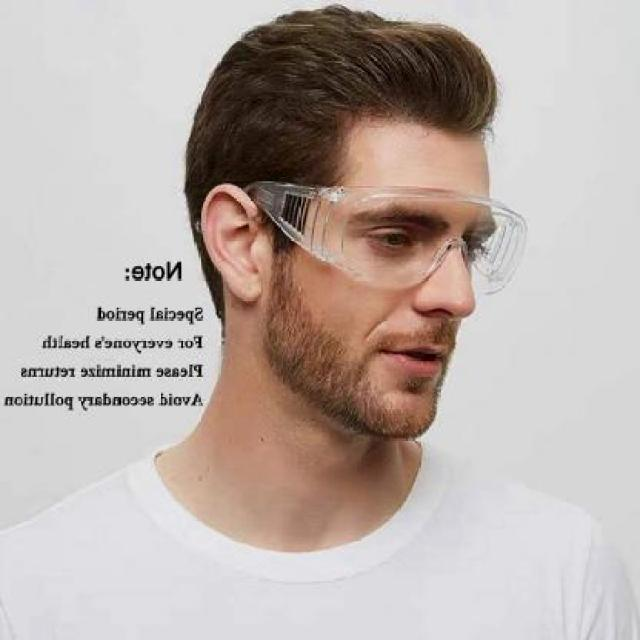face_nomask: (350, 210, 502, 399)
glasses: (239, 176, 530, 302)
head_nohelmet: (192, 1, 516, 150)
